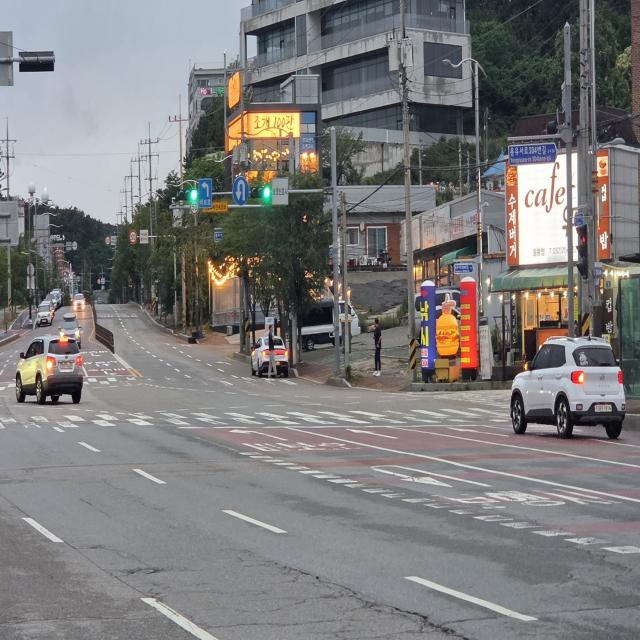car: (500, 330, 630, 443), (9, 320, 93, 422), (246, 327, 292, 386)
